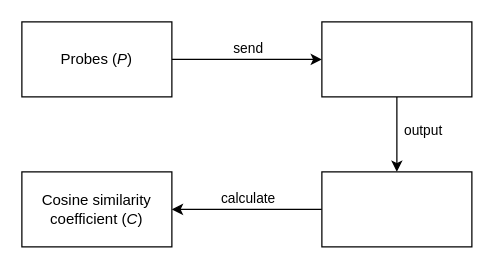
This 494x269 diagram has some shape labels left out. The shapes that lost their labels are listed below. From the top down, each one's centre as x and y in pixels, then its label:
pixel 396 59: Implementation ( I )
pixel 396 209: Responses ( Rp )
